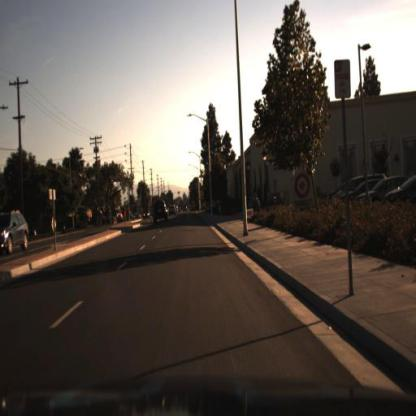car: (360, 178, 411, 206), (1, 211, 32, 255), (150, 199, 170, 225), (152, 199, 171, 226), (166, 201, 179, 219), (141, 209, 153, 224)
